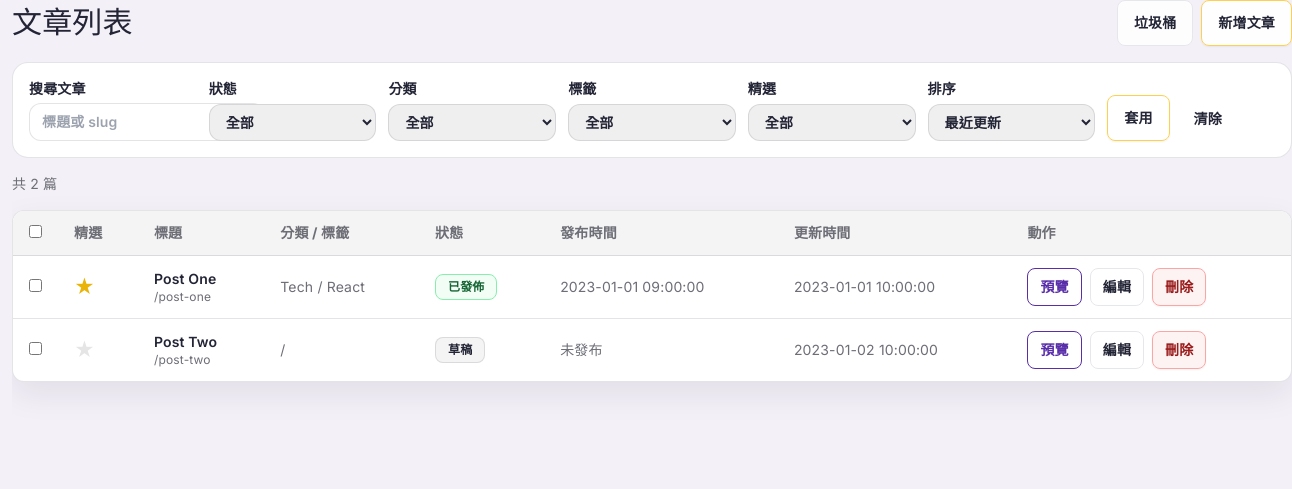
it: PostListClient › clears selection when the URL-driven result set changes
The width and height of the screenshot is (1292, 489).
Click the checkbox named "選取文章「Post One」".
click(36, 286)  # box [29,279,42,292]
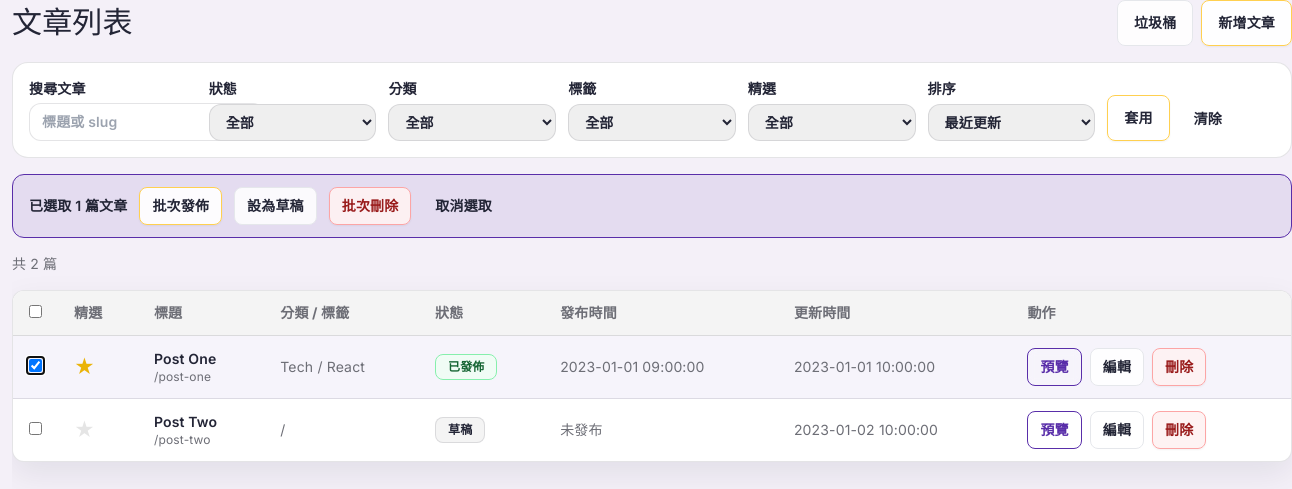
Result: the text "已選取 1 篇文章" is shown at [29,196,127,216]
